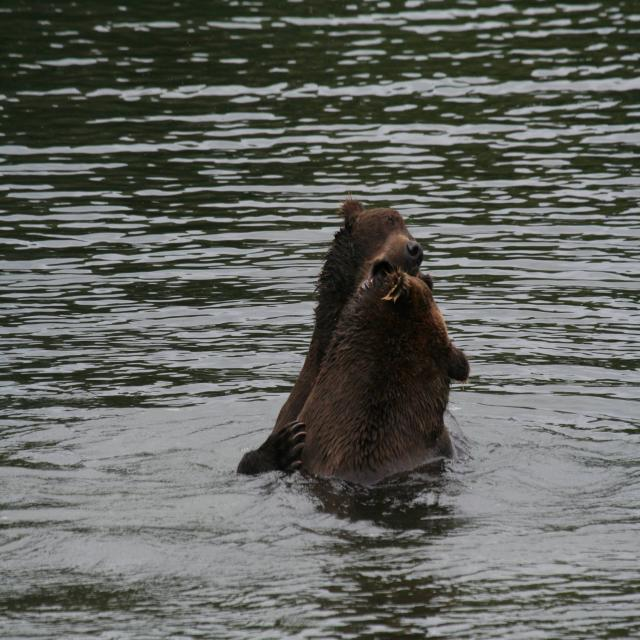bear face: (310, 260, 468, 473), (325, 194, 422, 298)
